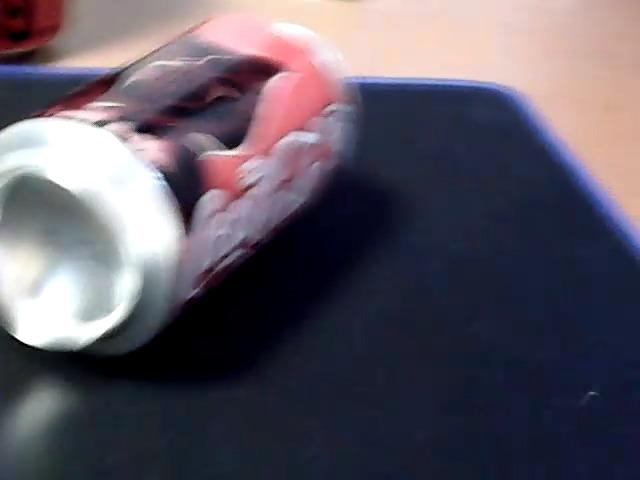coke: (3, 16, 356, 356), (0, 0, 68, 62)
